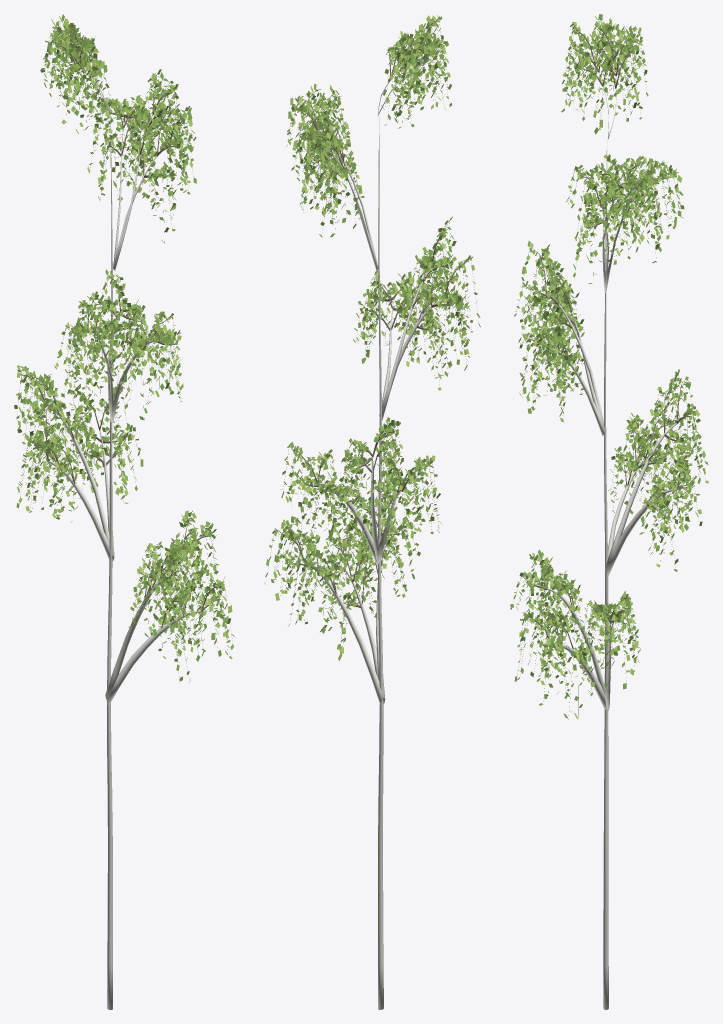
The model's file is birch_1293_2023_L0.glb.
3 views of the same model, side by side, from view 1: azimuth 30°, elevation 25°; view 2: azimuth 150°, elevation 25°; view 3: azimuth 270°, elevation 25° (orthographic). The views are drawn at different scales.
Visible parts, largest first — view 1: birch_part3, birch_part2, birch_part1, birch_part0, birch_trunk, birch_part94, birch_part99, birch_part95, birch_part90; view 2: birch_part1, birch_part2, birch_part3, birch_part0, birch_trunk, birch_part89; view 3: birch_part3, birch_part2, birch_part1, birch_part0, birch_trunk, birch_part95, birch_part100, birch_part99.
Part boxes in pixels (left/top/right/bottom): birch_part3: left=16, top=16, right=230, bottom=681; birch_part2: left=14, top=18, right=233, bottom=674; birch_part1: left=16, top=14, right=234, bottom=662; birch_part0: left=18, top=20, right=232, bottom=677; birch_trunk: left=107, top=115, right=112, bottom=1009; birch_part94: left=106, top=610, right=201, bottom=704; birch_part99: left=105, top=580, right=165, bottom=703; birch_part95: left=47, top=403, right=113, bottom=553; birch_part90: left=48, top=461, right=113, bottom=559; birch_part1: left=264, top=15, right=480, bottom=642; birch_part2: left=266, top=16, right=477, bottom=651; birch_part3: left=265, top=15, right=480, bottom=660; birch_part0: left=268, top=17, right=478, bottom=659; birch_trunk: left=377, top=116, right=383, bottom=1009; birch_part89: left=312, top=565, right=383, bottom=704; birch_part3: left=513, top=16, right=708, bottom=719; birch_part2: left=510, top=19, right=705, bottom=712; birch_part1: left=510, top=14, right=705, bottom=700; birch_part0: left=516, top=21, right=702, bottom=719; birch_trunk: left=603, top=138, right=608, bottom=1009; birch_part95: left=606, top=423, right=676, bottom=567; birch_part100: left=605, top=488, right=676, bottom=576; birch_part99: left=547, top=588, right=605, bottom=693.
Size of the model in its own units: 4.09 by 21 by 3.9.
5 materials, 5 textured.
